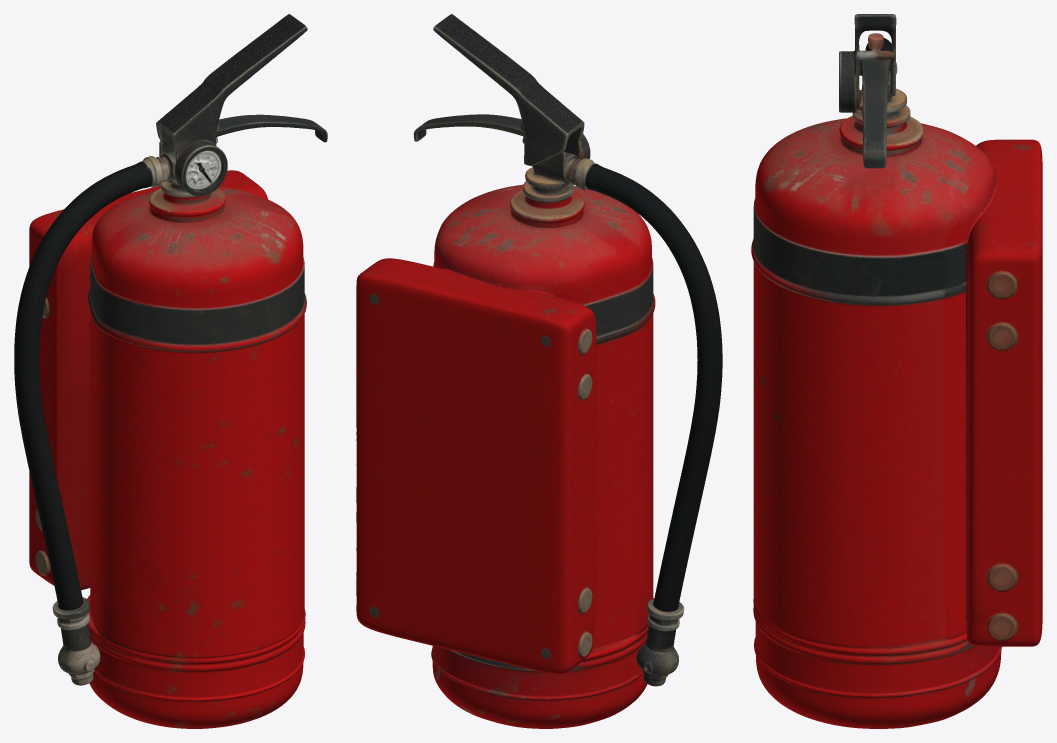
The model's file is Extinguishner.glb.
3 views of the same model, side by side, from view 1: azimuth 30°, elevation 25°; view 2: azimuth 150°, elevation 25°; view 3: azimuth 270°, elevation 25° (orthographic). The views are drawn at different scales.
Size of the model in its own units: 0.9332 by 1.9 by 0.6852.
Materials: 1 (1 with a texture image).
